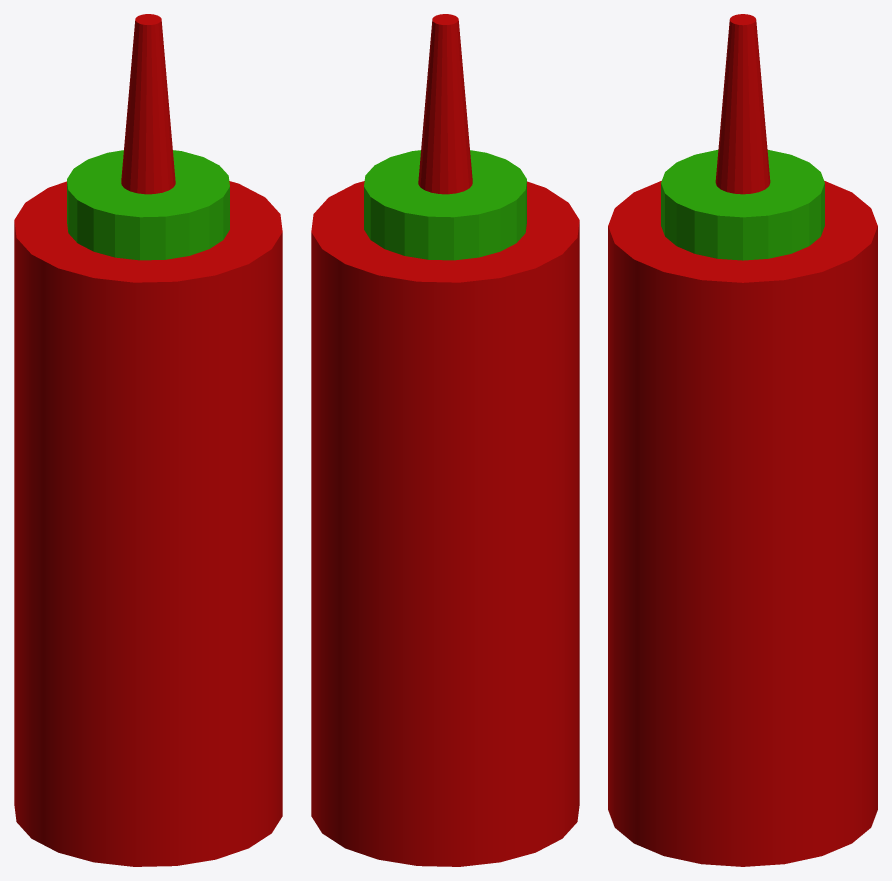
File: ketchup.fbx
3 renders of one model, left to right at view 1: azimuth 30°, elevation 25°; view 2: azimuth 150°, elevation 25°; view 3: azimuth 270°, elevation 25°, orthographic.
Parts seen in each view (by area): view 1: ketchup; view 2: ketchup; view 3: ketchup.
Part boxes in pixels (x1,y1,x2,y2): ketchup: (14,14,282,866); ketchup: (311,14,579,866); ketchup: (608,14,877,866).
Bounding box in the file's own units: 17.03 × 55.06 × 17.03.
